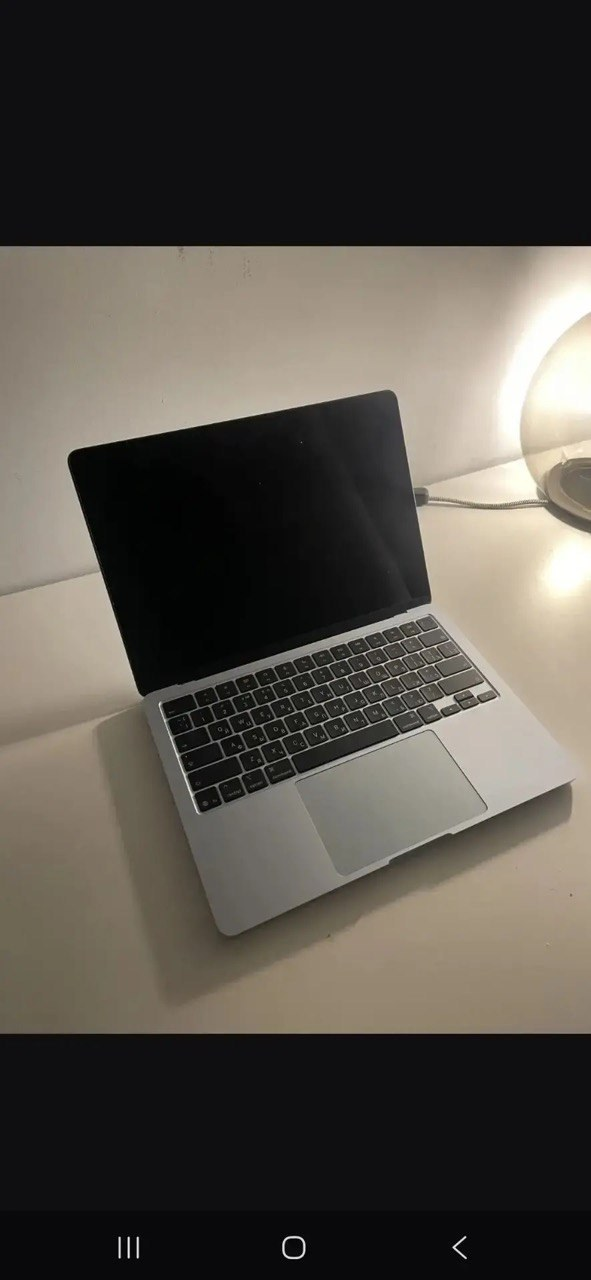laptop: (67, 388, 577, 938)
